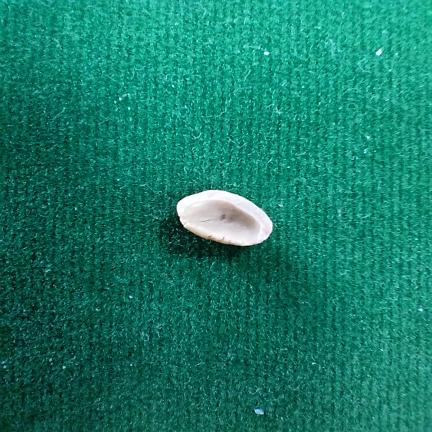shell: (176, 190, 272, 247)
